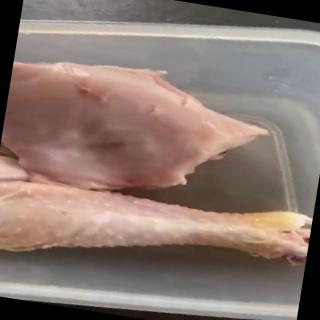Ayam: (1, 47, 277, 218), (1, 155, 316, 299)
